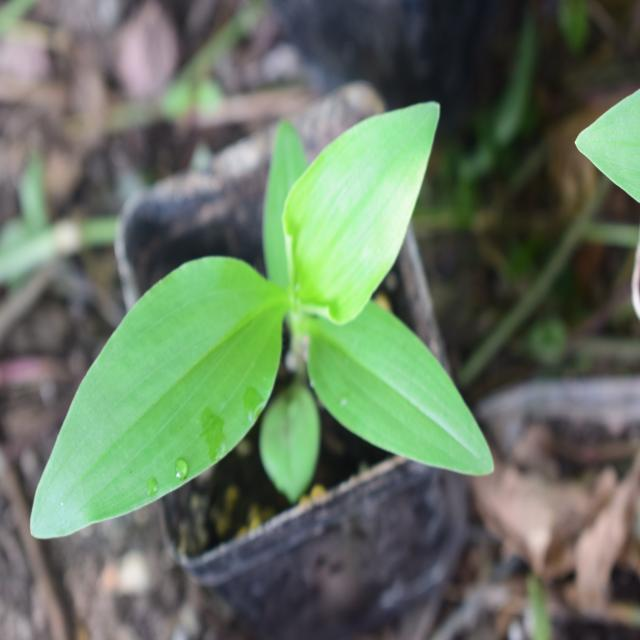Common Dayflower: (30, 102, 509, 530)
